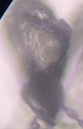microplastic: (4, 1, 73, 127), (62, 105, 83, 129), (29, 115, 40, 129)
